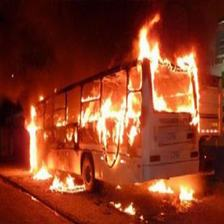fire: (84, 12, 202, 162), (19, 102, 83, 195), (147, 174, 203, 205), (105, 197, 147, 222)
